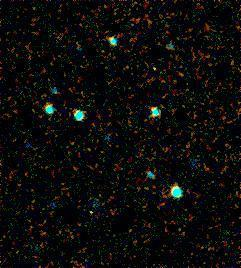star: (142, 56, 172, 86)
